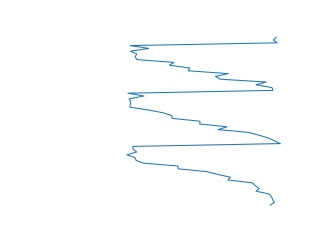distributaryMouthBar: (124, 35, 284, 206)
